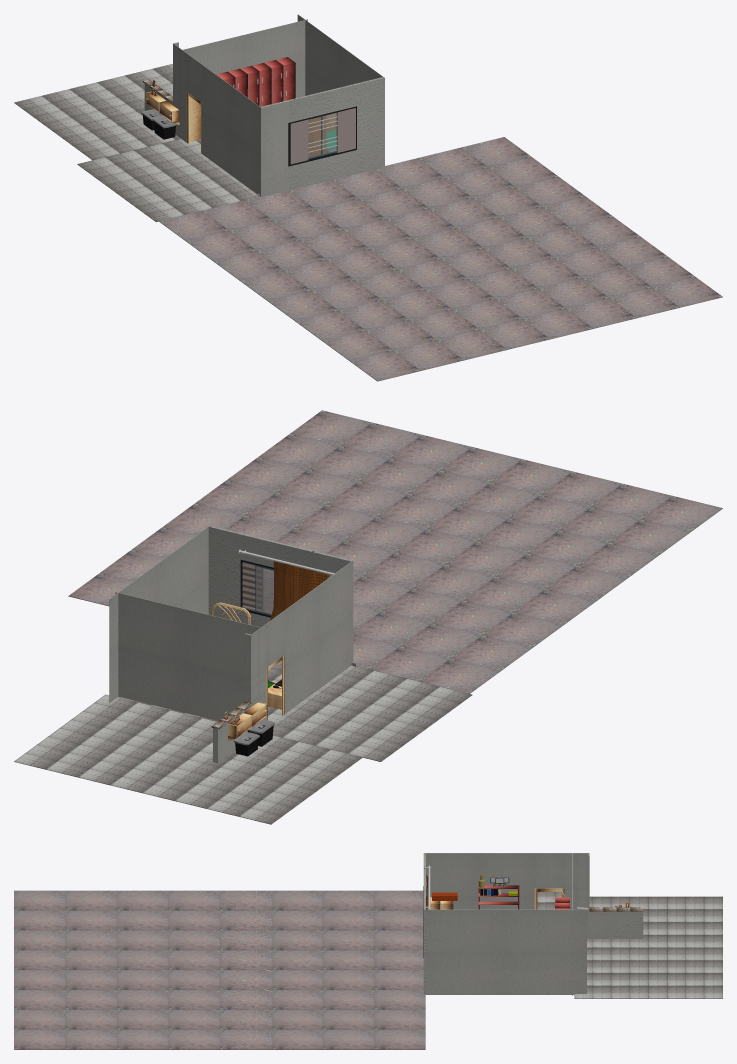
The model's file is map.obj.
3 views of the same model, one above another, from view 1: azimuth 30°, elevation 25°; view 2: azimuth 150°, elevation 25°; view 3: azimuth 270°, elevation 25° (orthographic). The views are drawn at different scales.
Visible parts, largest first — view 1: Cube.042_Cube.063, Cube.038_Cube.002, Cube, Cube.019_Cube.021, Cube.004, Cube.003, Cube.001, Cube.037_Cube.064, Cube.020_Cube.035, Cube.017_Cube.034, Cube.039_Cube.024, Cube.040_Cube.037; view 2: Cube.042_Cube.063, Cube.019_Cube.021, Cube.003, Cube, Cube.004, Cube.038_Cube.002, Cube.001, Cube.037_Cube.064, Cube.033_Cube.005, Cube.039_Cube.024, Cube.049_Cube.059; view 3: Cube.042_Cube.063, Cube.001, Cube.019_Cube.021, Cube.004, Cube.037_Cube.064, Cube.038_Cube.002, Cube.
Boxes of the visible parts, x1,y1,x2,y2 form: Cube.042_Cube.063: (159,137,722,381); Cube.038_Cube.002: (261,77,384,196); Cube: (77,138,259,222); Cube.019_Cube.021: (14,64,180,160); Cube.004: (202,65,261,196); Cube.003: (183,19,307,97); Cube.001: (297,14,382,95); Cube.037_Cube.064: (144,42,202,142); Cube.020_Cube.035: (264,57,295,103); Cube.017_Cube.034: (240,63,271,106); Cube.039_Cube.024: (336,108,355,152); Cube.040_Cube.037: (290,119,308,164); Cube.042_Cube.063: (68,410,722,693); Cube.019_Cube.021: (14,694,362,824); Cube.003: (115,592,260,720); Cube: (118,660,472,761); Cube.004: (284,560,353,713); Cube.038_Cube.002: (208,525,352,627); Cube.001: (109,526,208,702); Cube.037_Cube.064: (213,610,284,763); Cube.033_Cube.005: (270,561,328,620); Cube.039_Cube.024: (242,562,263,611); Cube.049_Cube.059: (255,565,273,615); Cube.042_Cube.063: (14,890,425,1049); Cube.001: (426,909,586,994); Cube.019_Cube.021: (574,896,722,998); Cube.004: (424,853,534,909); Cube.037_Cube.064: (534,853,643,938); Cube.038_Cube.002: (423,853,425,994); Cube: (537,892,561,909).
Bounding box in the file's own units: 114 × 29.23 × 214.
